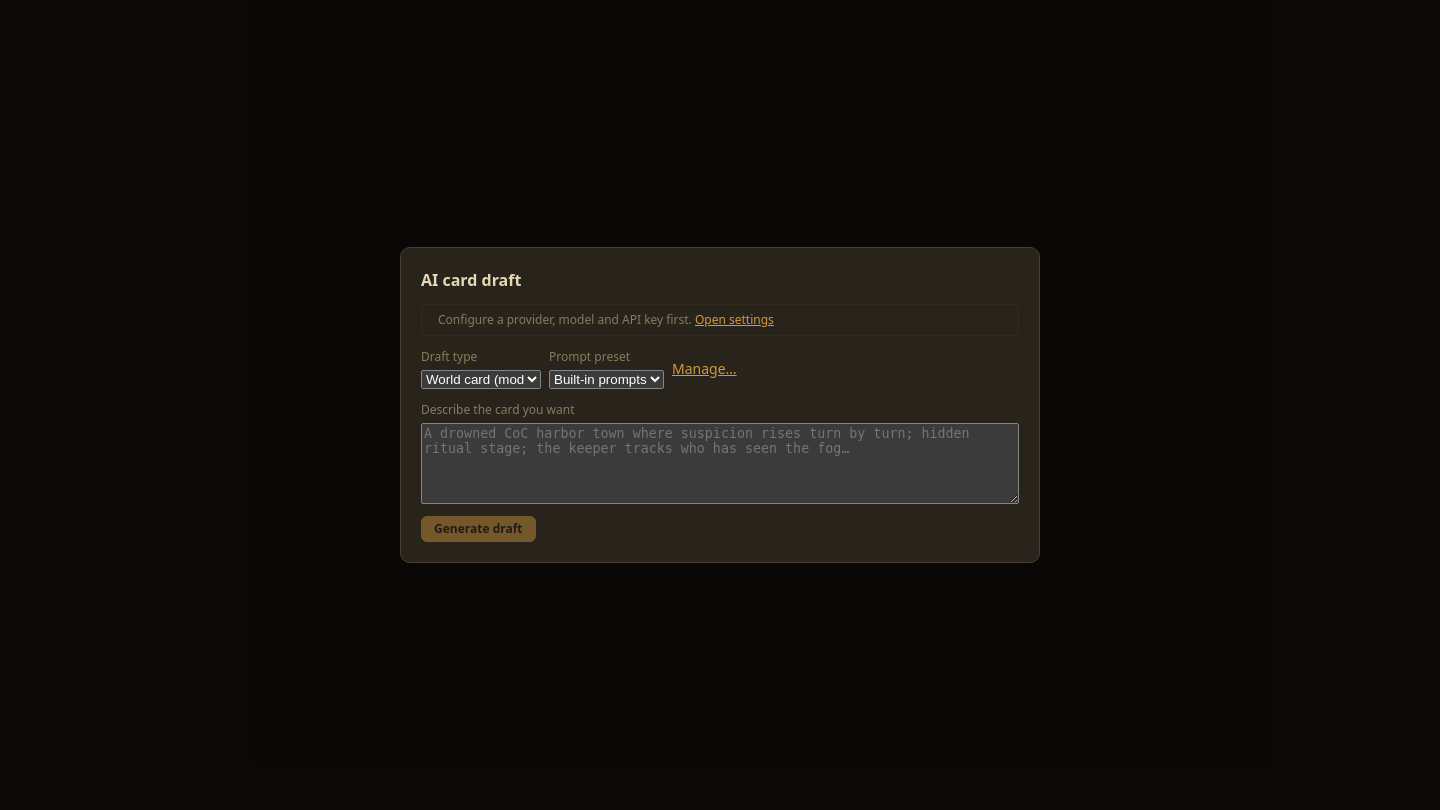
Test: AiPanel preset switching › offers built-in prompts plus every imported preset and switches the session
Select "明月秋青" in the dropdown labelled "Prompt preset": (606, 380) [549, 370, 664, 389]
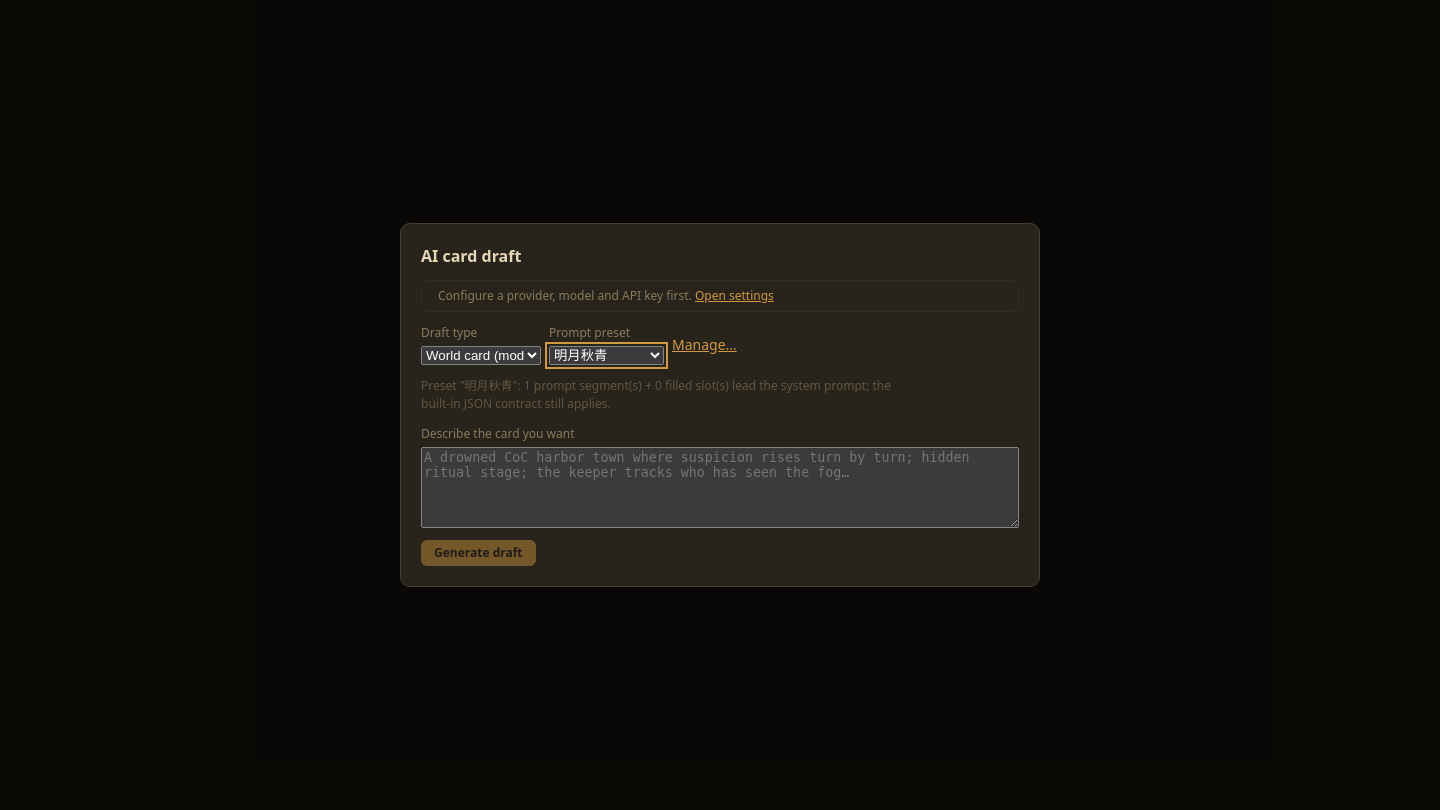
Result: the text "Preset \"明月秋青\": 1 prompt segment" is shown at [421, 377, 891, 412]
